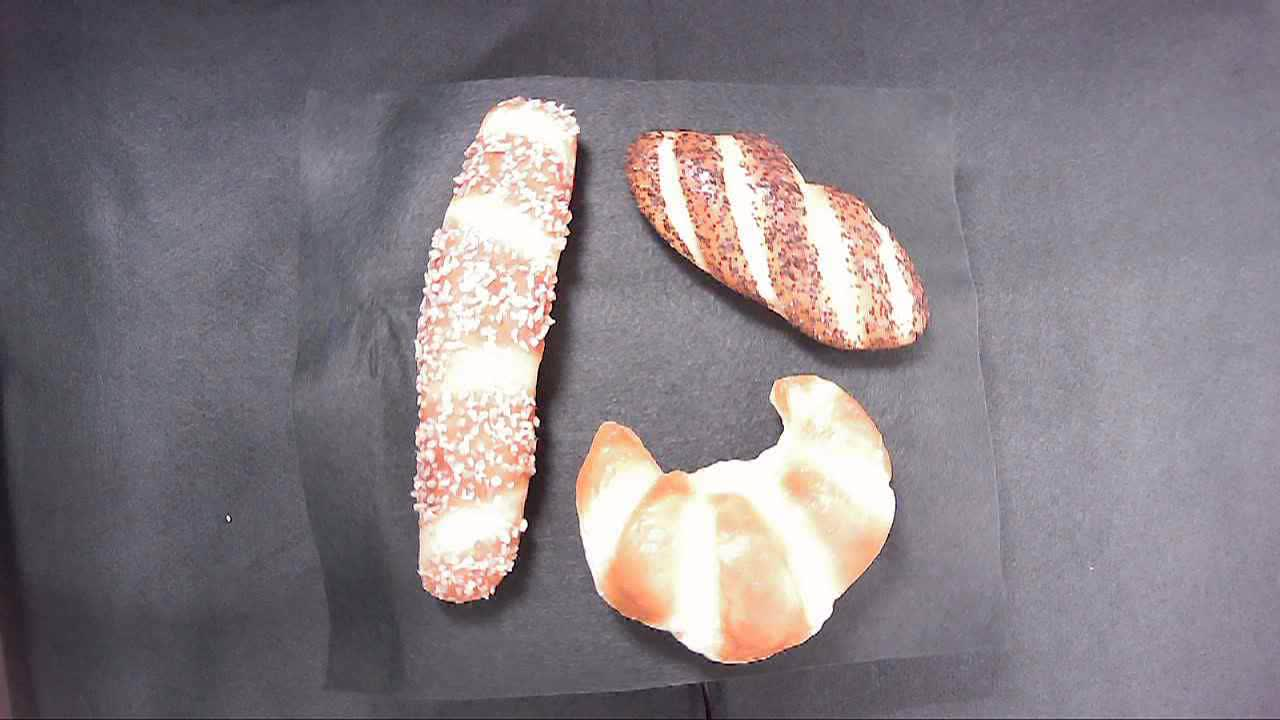cow: (573, 372, 900, 671)
long: (401, 84, 572, 608)
slash: (618, 120, 949, 357)
